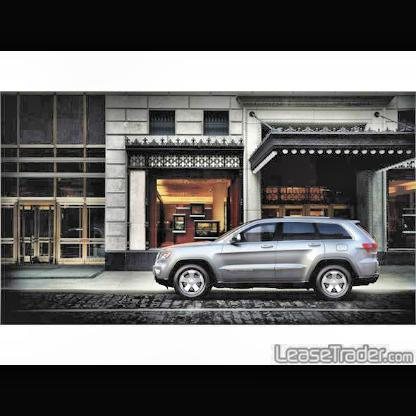Jeep Grand Cherokee SUV 2012: (154, 217, 383, 303)
